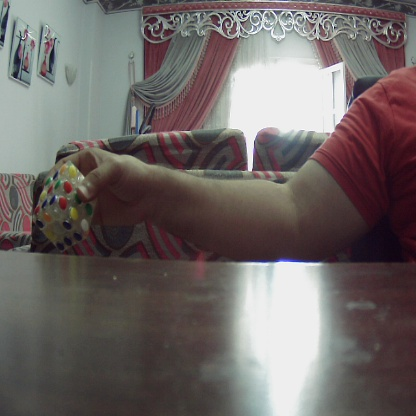Rubix Cube: (36, 171, 94, 247)
